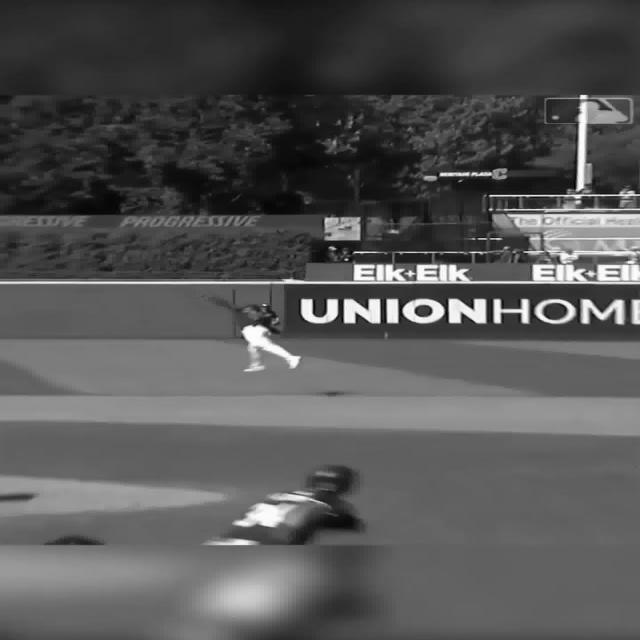shoe: (201, 536, 259, 546), (286, 355, 302, 369), (242, 364, 264, 372)
